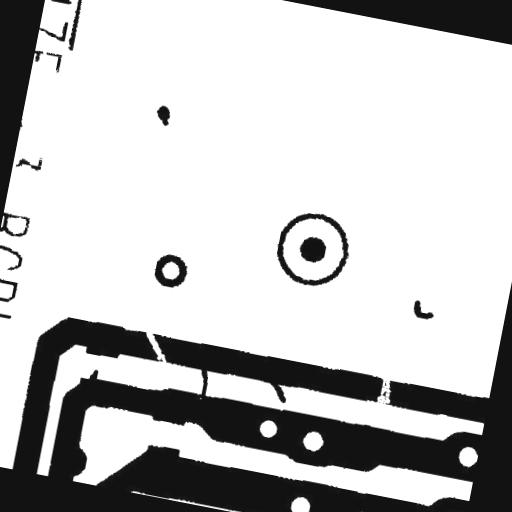copper: (404, 291, 444, 329), (145, 96, 180, 134)
open: (132, 322, 180, 372), (367, 368, 403, 416)
pin-hole: (250, 410, 288, 448), (350, 502, 392, 512)
short: (187, 354, 220, 406)
spur: (254, 369, 298, 412), (80, 360, 106, 392)
